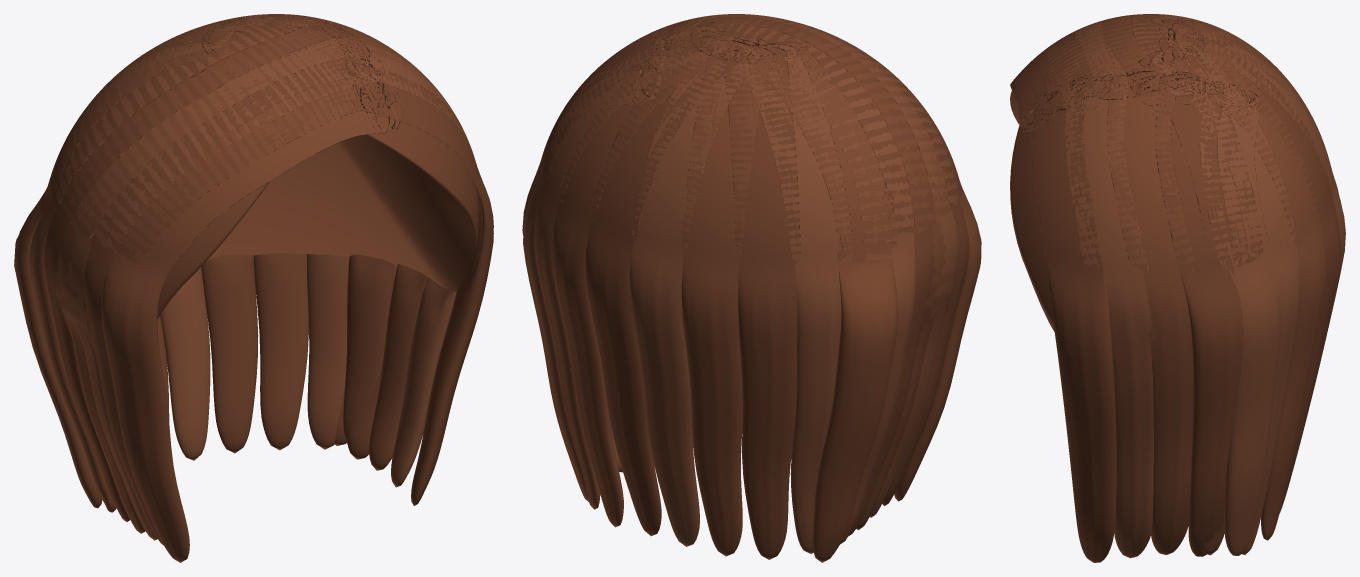
Rendered from Feminine-straight-closed-hair.glb.
3 views of the same model, side by side, from view 1: azimuth 30°, elevation 25°; view 2: azimuth 150°, elevation 25°; view 3: azimuth 270°, elevation 25° (orthographic). The views are drawn at different scales.
Visible parts, largest first — view 1: 226 hair / Hair / sculpted 0.002, 226 hair / Hair / sculpted 1.004, 226 hair / Hair / sculpted 2.002, 226 hair / Hair / sculpted 1.003; view 2: 226 hair / Hair / sculpted 0.002, 226 hair / Hair / sculpted 2.002, 226 hair / Hair / sculpted 1.004; view 3: 226 hair / Hair / sculpted 1.004, 226 hair / Hair / sculpted 2.002, 226 hair / Hair / sculpted 0.002, 226 hair / Hair / sculpted 1.003.
Boxes of the visible parts, x1,y1,x2,y2 form: 226 hair / Hair / sculpted 0.002: (14,14,437,562); 226 hair / Hair / sculpted 1.004: (44,14,493,545); 226 hair / Hair / sculpted 2.002: (29,14,480,540); 226 hair / Hair / sculpted 1.003: (157,122,478,319); 226 hair / Hair / sculpted 0.002: (552,14,981,562); 226 hair / Hair / sculpted 2.002: (523,14,958,553); 226 hair / Hair / sculpted 1.004: (522,14,969,559); 226 hair / Hair / sculpted 1.004: (1025,14,1341,562); 226 hair / Hair / sculpted 2.002: (1045,14,1345,558); 226 hair / Hair / sculpted 0.002: (1010,14,1339,554); 226 hair / Hair / sculpted 1.003: (1010,91,1054,331).
Size of the model in its own units: 0.9955 by 1.16 by 0.7506.
